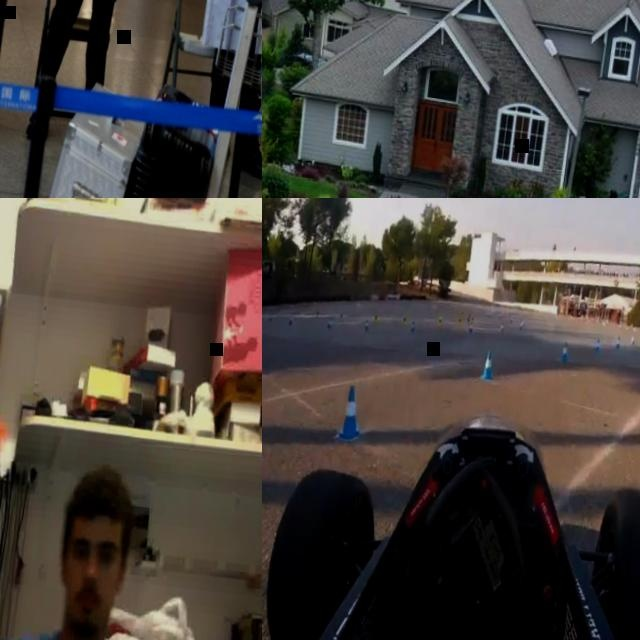NO-Hardhat: (61, 466, 136, 537)
NO-Mask: (60, 586, 110, 635)
Person: (0, 438, 192, 640), (24, 0, 170, 142), (176, 0, 262, 183)
Safety Cone: (0, 214, 29, 476), (330, 380, 367, 450), (477, 345, 498, 385), (558, 338, 570, 367), (592, 336, 601, 359), (362, 317, 370, 335), (409, 320, 416, 338), (436, 314, 443, 330), (613, 337, 620, 352), (325, 315, 330, 331)
vehicle: (262, 385, 640, 640)
